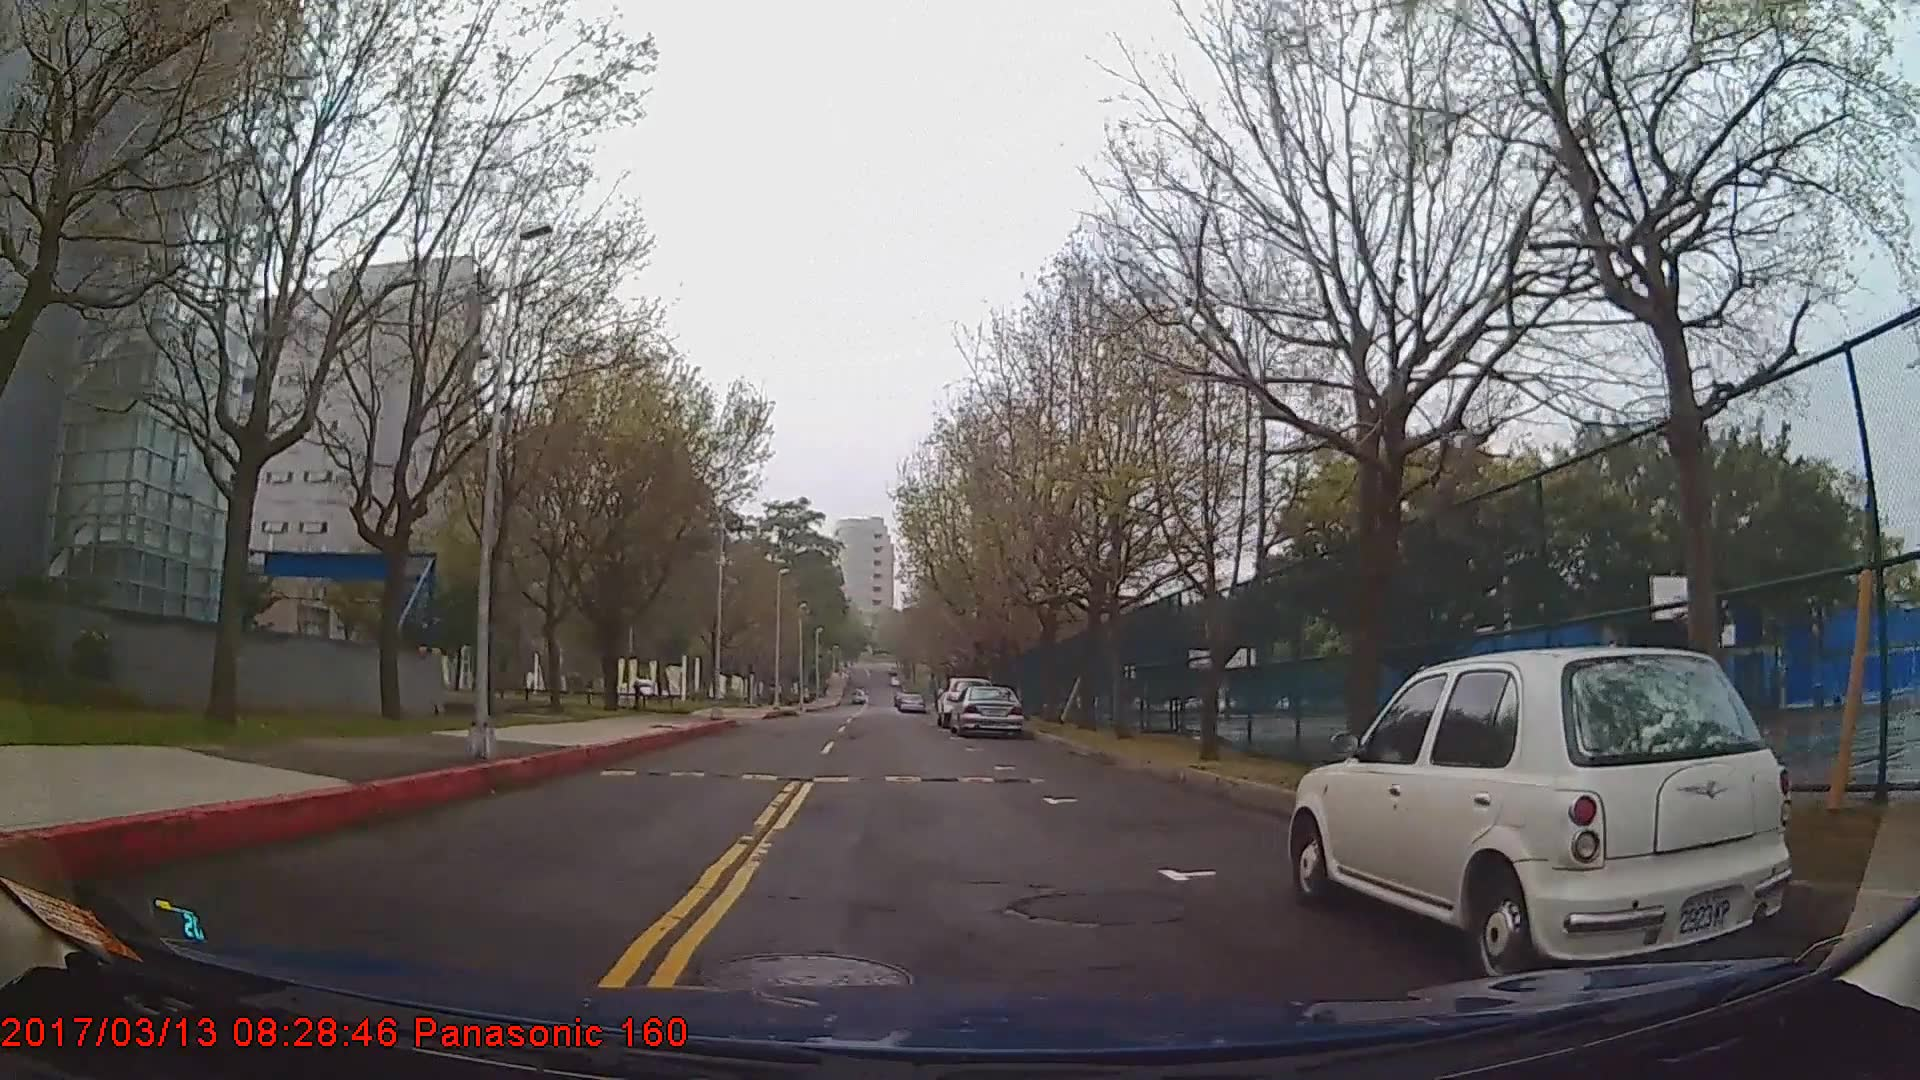vehicle: (1294, 644, 1800, 975), (949, 680, 1026, 733), (897, 691, 924, 713)
